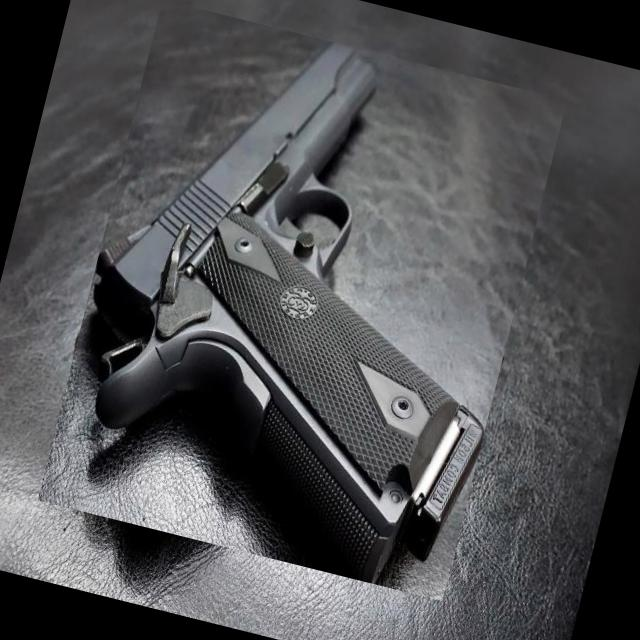Gun: (94, 43, 483, 583)
